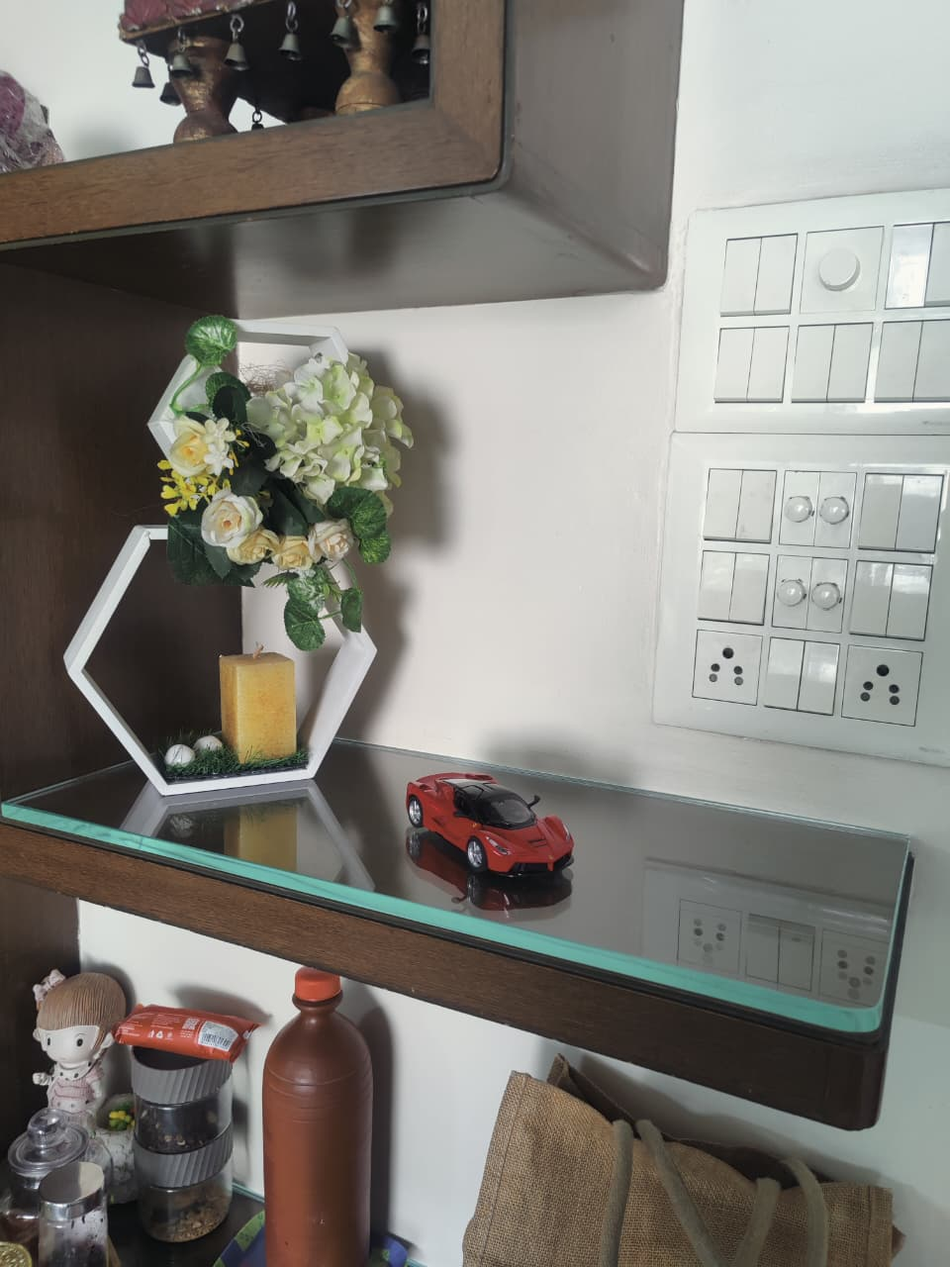car: (406, 772, 576, 875)
